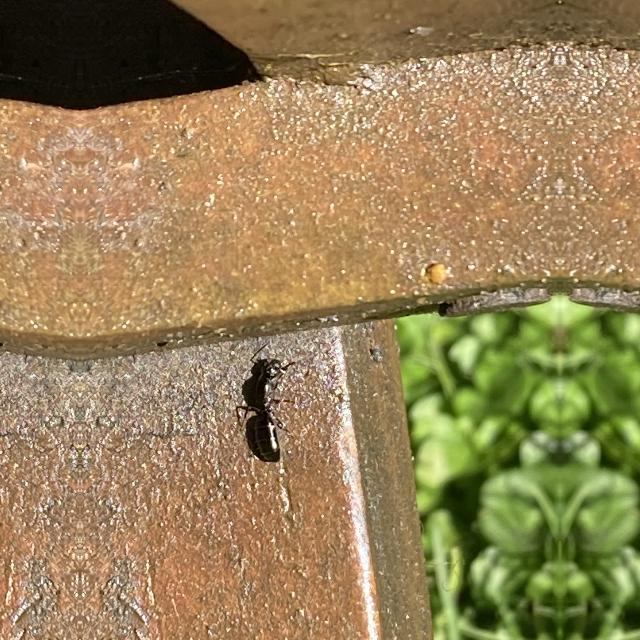Colobopsis: (235, 347, 299, 473)
